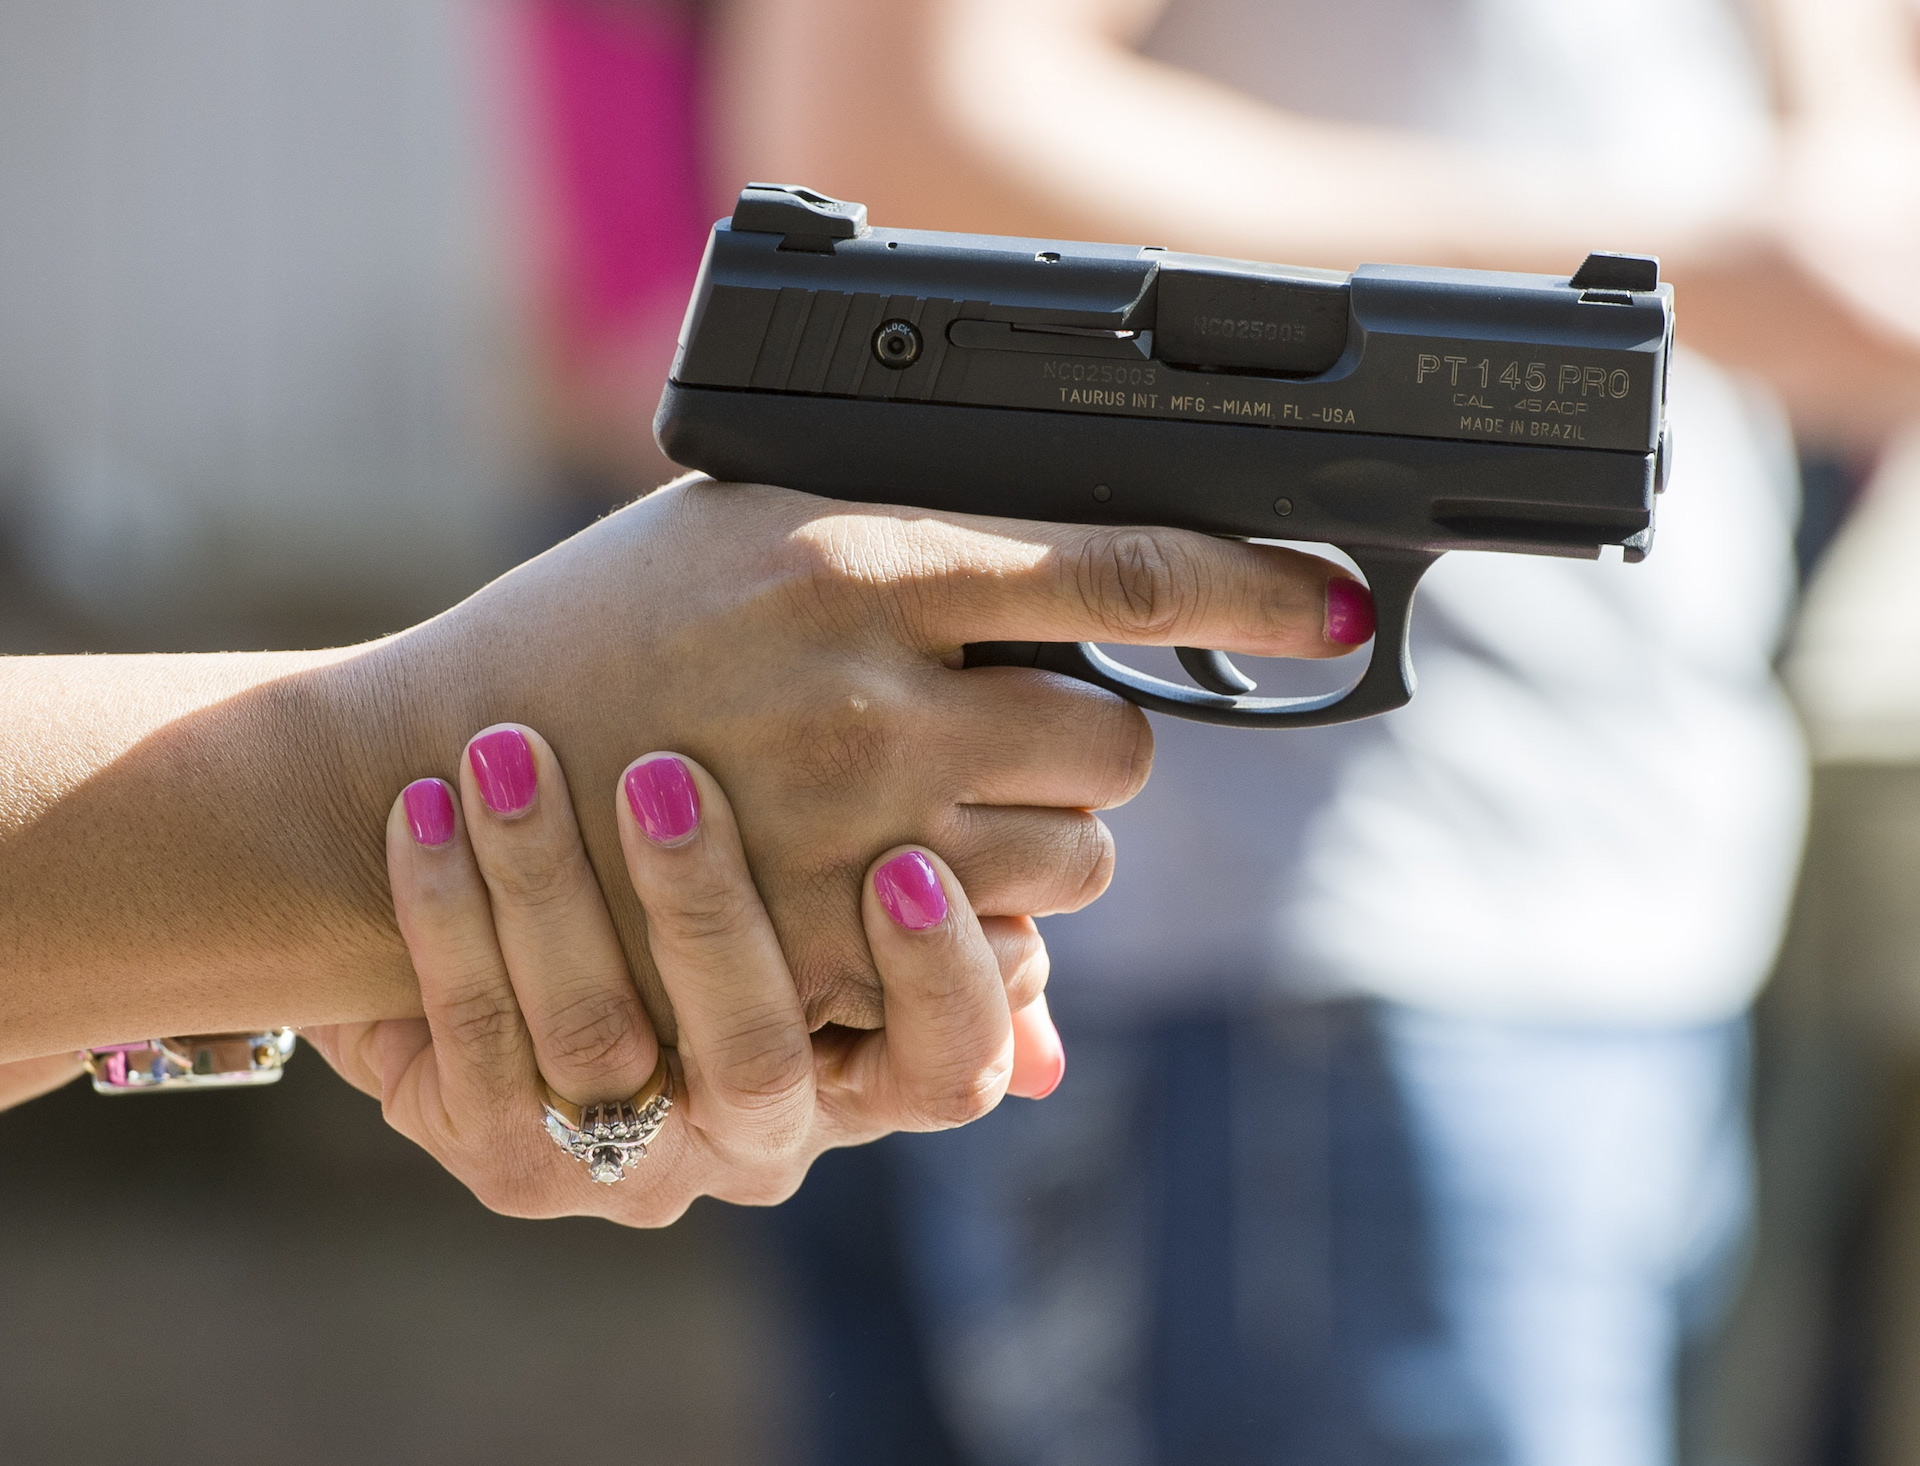pistol: (651, 182, 1677, 731)
